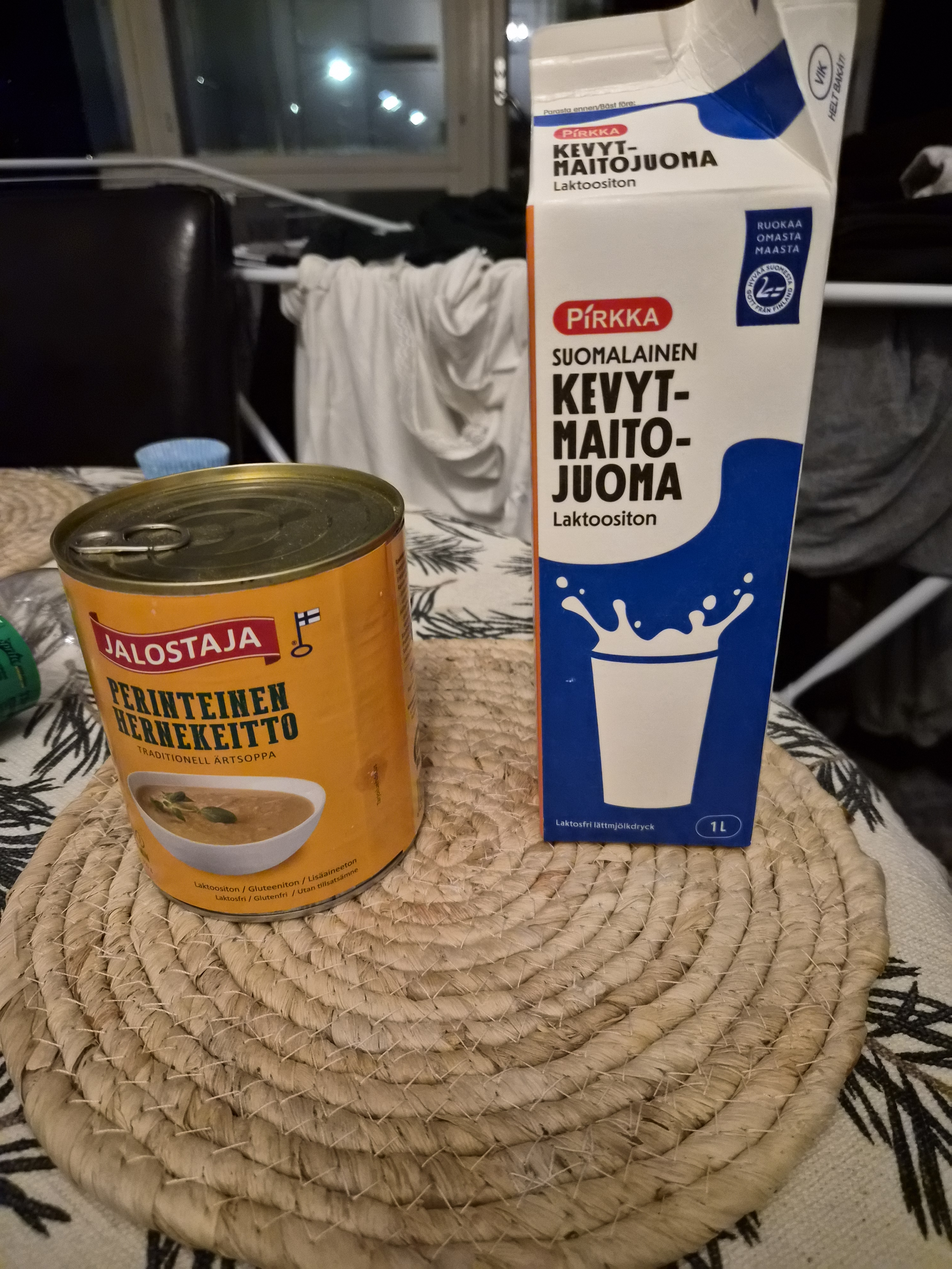Dryckeskartong: (516, 0, 861, 853)
Konservburk: (45, 467, 426, 924)
